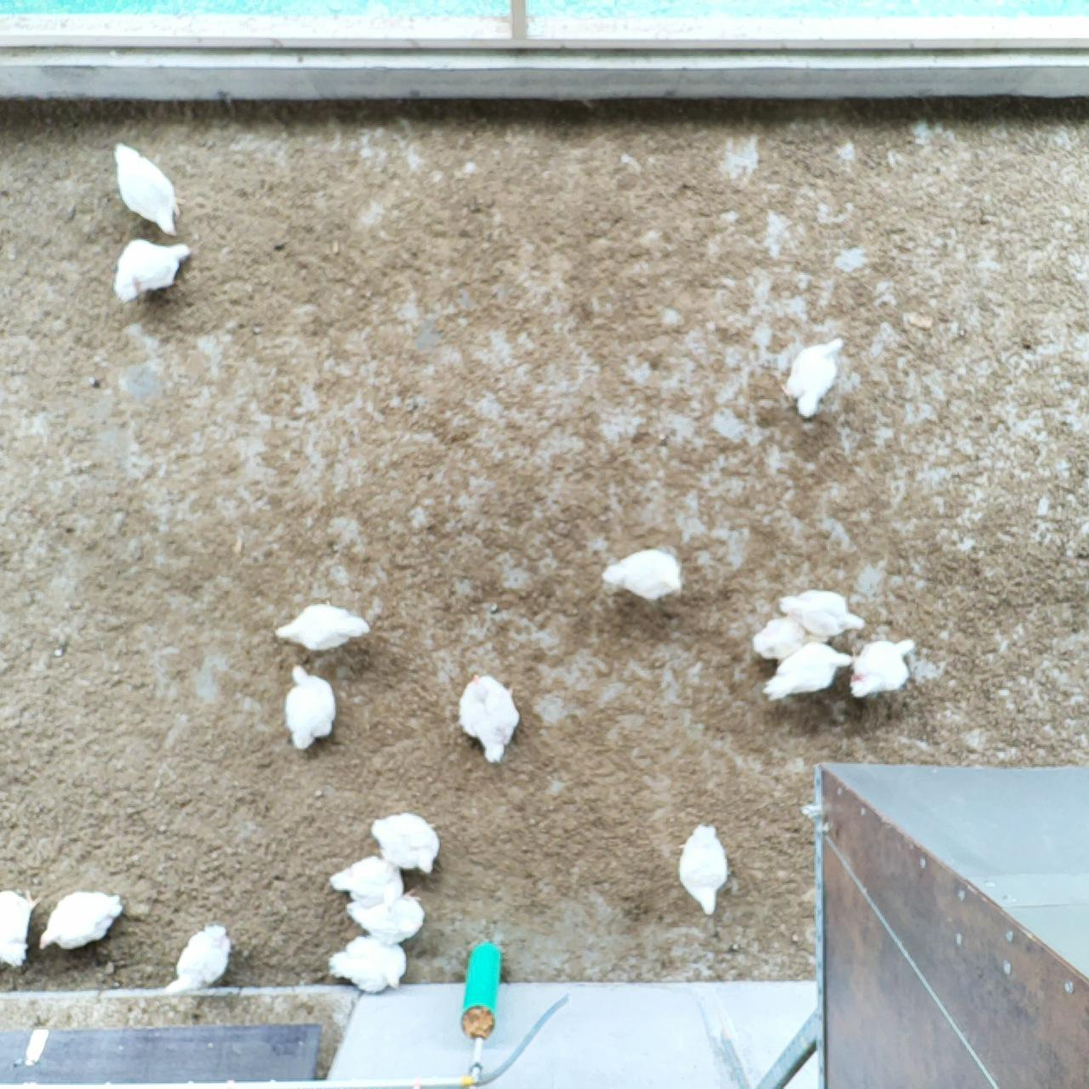chicken: (109, 138, 187, 239), (455, 670, 525, 767), (756, 643, 854, 708), (38, 887, 126, 958), (271, 594, 373, 654), (777, 335, 848, 420), (672, 822, 734, 919), (110, 239, 194, 309), (276, 659, 339, 751), (599, 546, 689, 606), (345, 883, 429, 946), (326, 935, 410, 997), (163, 920, 235, 992), (844, 634, 920, 701), (774, 585, 866, 640), (370, 807, 443, 875), (324, 852, 407, 901), (0, 885, 43, 972), (749, 612, 815, 660)
